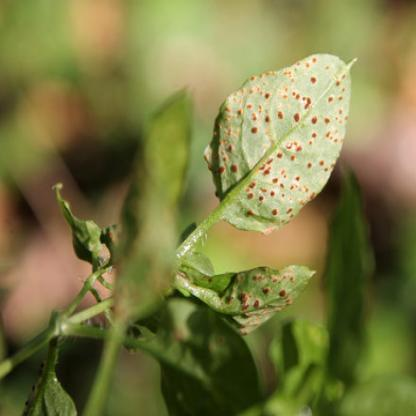black-spot: (233, 102, 298, 206), (310, 79, 339, 142)
